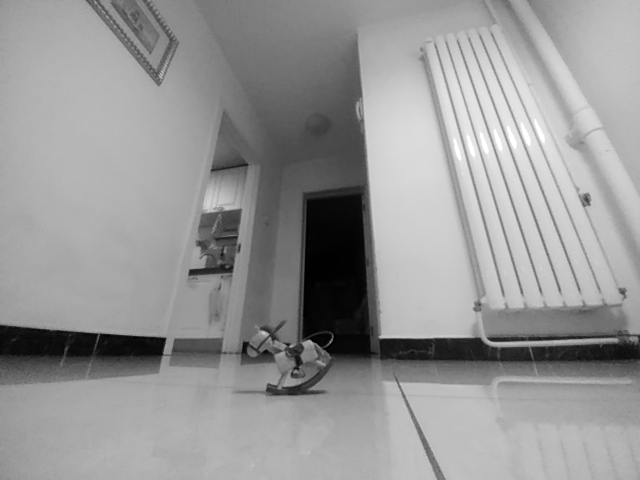toy: (247, 325, 336, 396)
